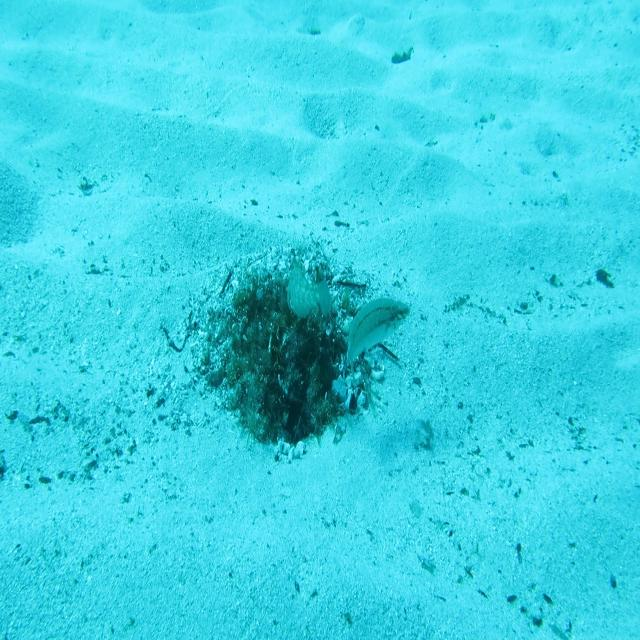NIP_CORE: (285, 256, 334, 324)
core_nest: (254, 291, 310, 330)
female: (346, 294, 410, 398)
nest: (178, 226, 394, 480)
vegetation: (388, 47, 415, 69)
